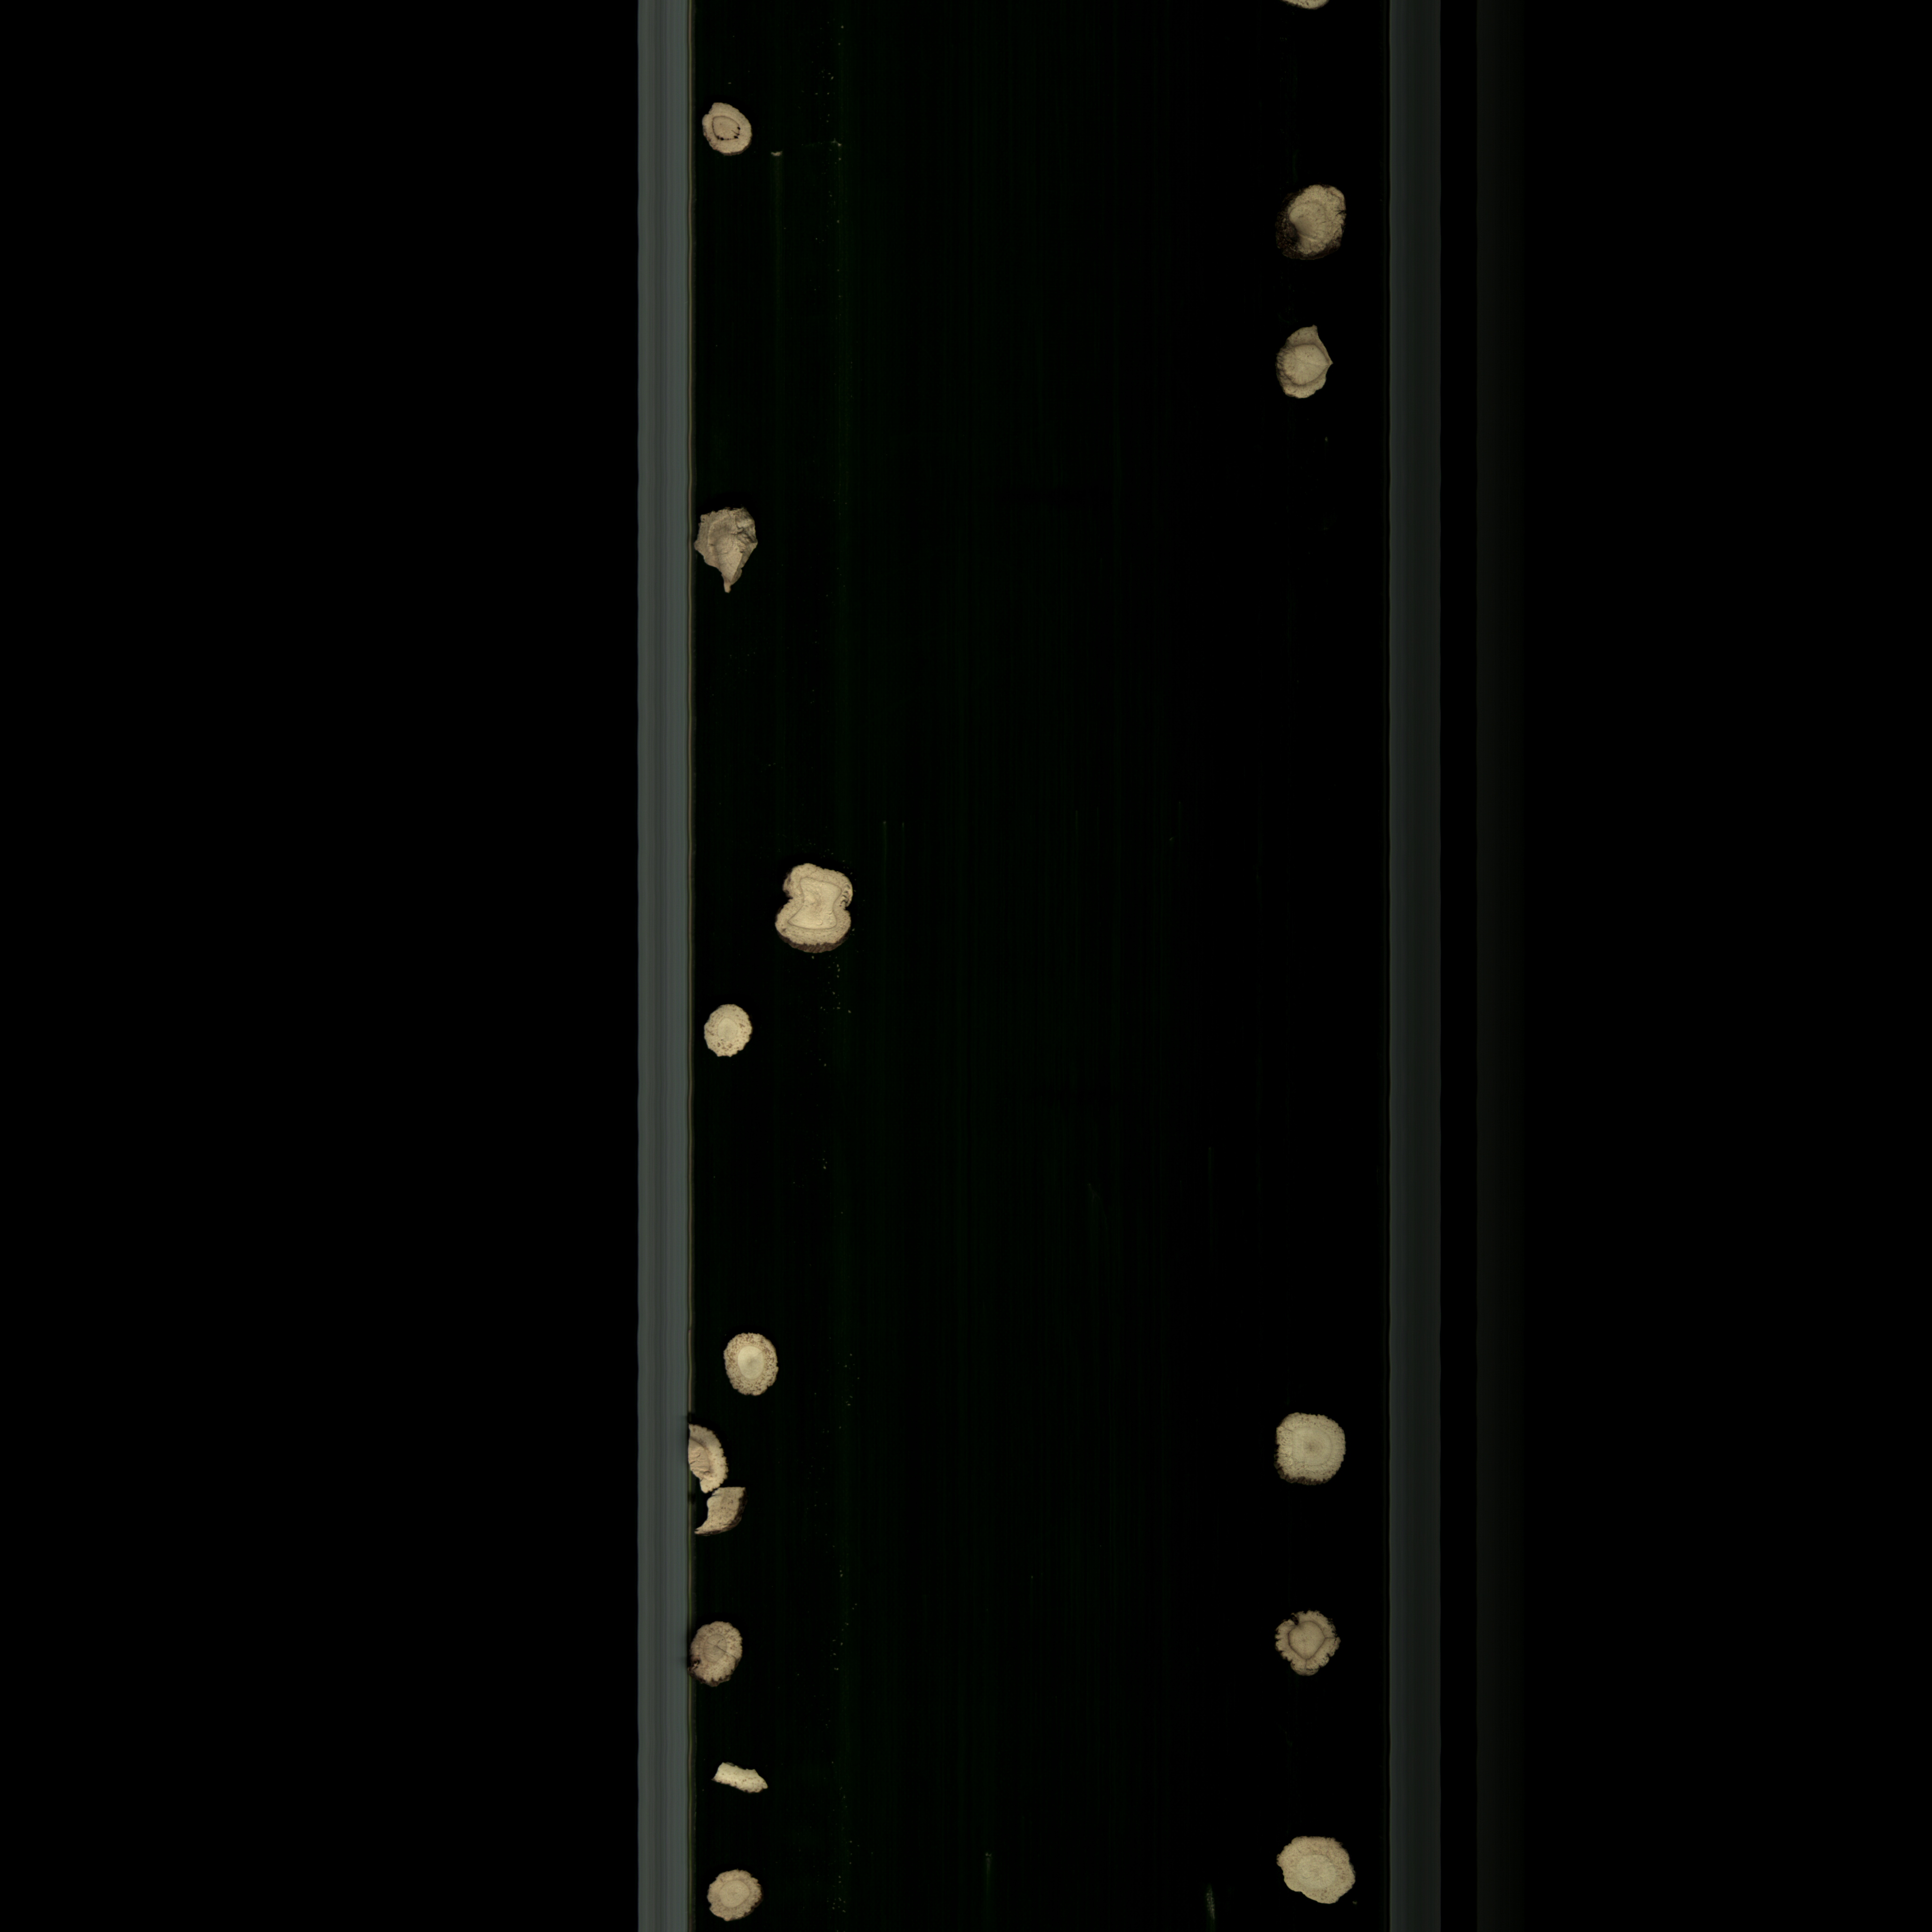debris: (1270, 1826, 1368, 1914)
distortion: (770, 855, 863, 964), (690, 497, 778, 603), (692, 1484, 755, 1552), (706, 1757, 777, 1803)
moldy: (1267, 317, 1348, 407), (1276, 175, 1355, 264), (674, 1614, 750, 1700), (1261, 1605, 1348, 1679), (720, 1329, 784, 1408), (678, 1415, 734, 1493), (695, 99, 763, 161)
